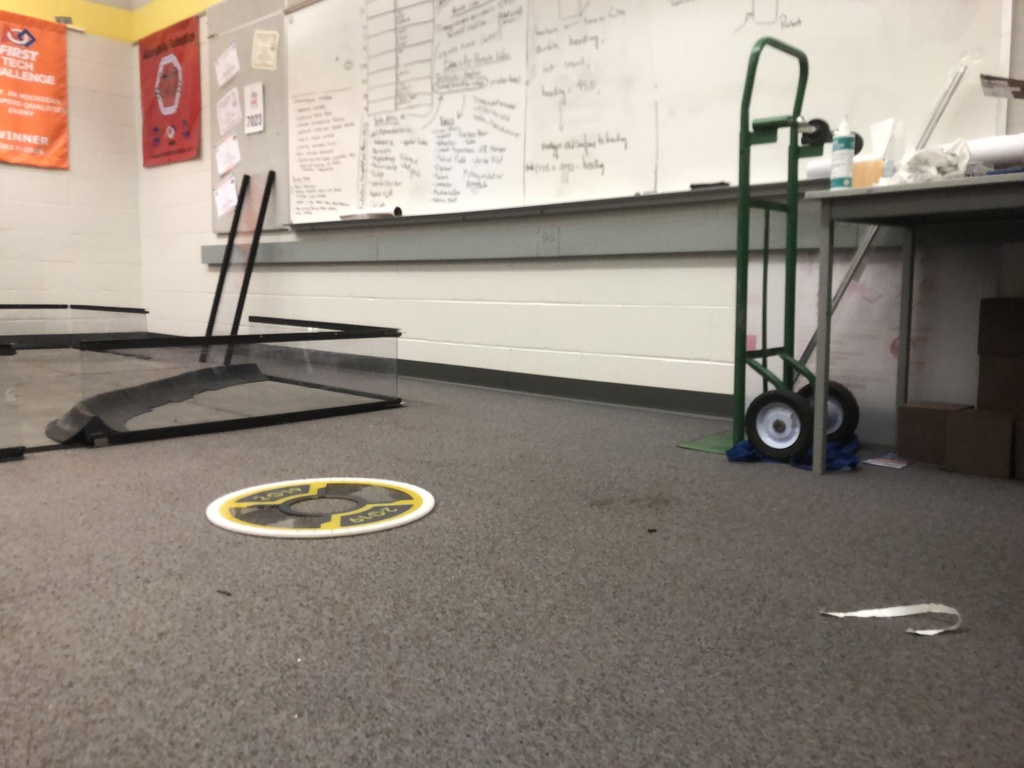hatch_panel: (197, 464, 448, 544)
